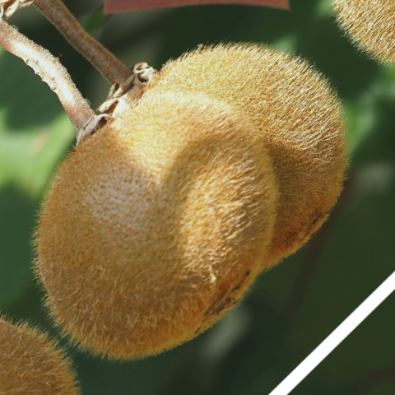kiwi: (0, 36, 347, 395)
